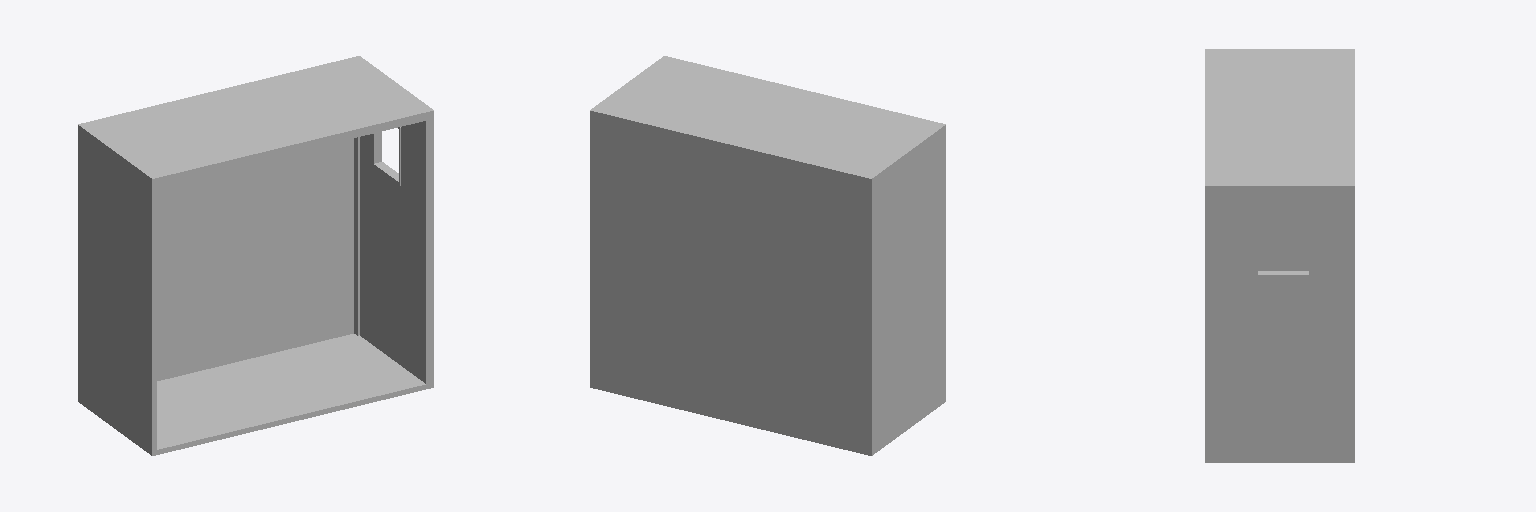
The model's file is newscene.obj.
3 renders of one model, left to right at view 1: azimuth 30°, elevation 25°; view 2: azimuth 150°, elevation 25°; view 3: azimuth 270°, elevation 25°, orthographic.
Visible parts, largest first — view 1: walls; view 2: walls; view 3: walls.
Boxes of the visible parts, <box> form: walls: <box>78,56,433,455</box>; walls: <box>590,56,945,455</box>; walls: <box>1205,49,1354,462</box>.
Bounding box in the file's own units: 2832 × 2662 × 1301.